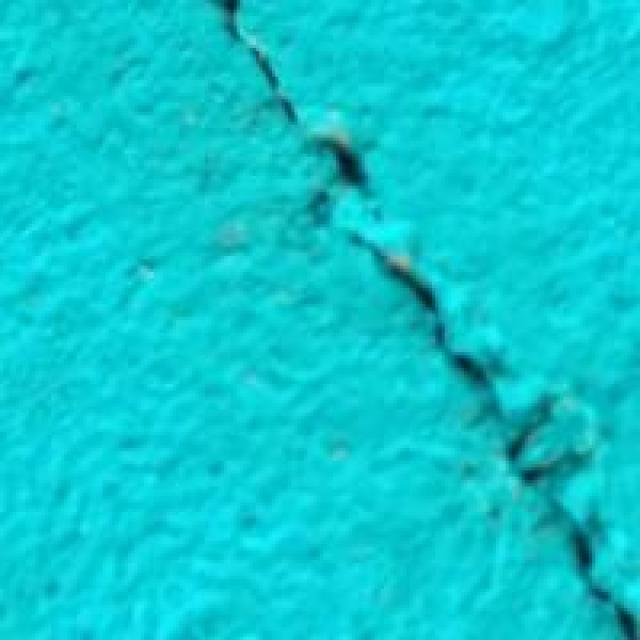crack: (202, 0, 636, 627)
